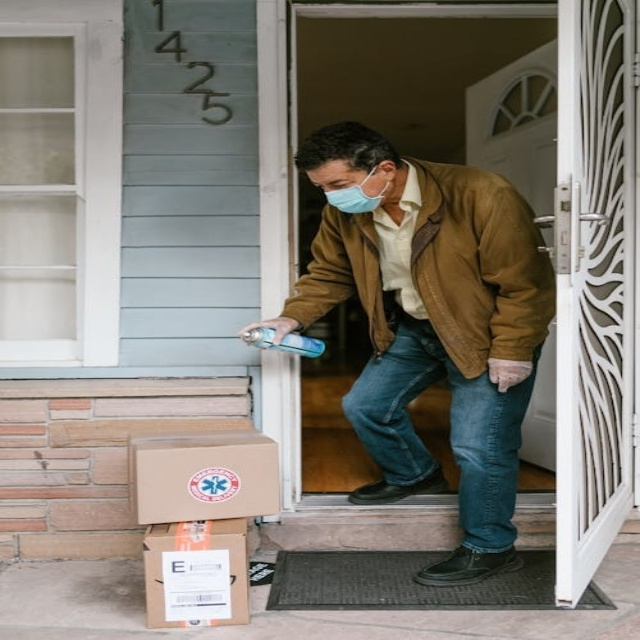Guantes: (238, 311, 302, 347), (484, 357, 538, 394)
Mascara: (323, 165, 389, 213)
Sin_gafas: (308, 172, 361, 191)
